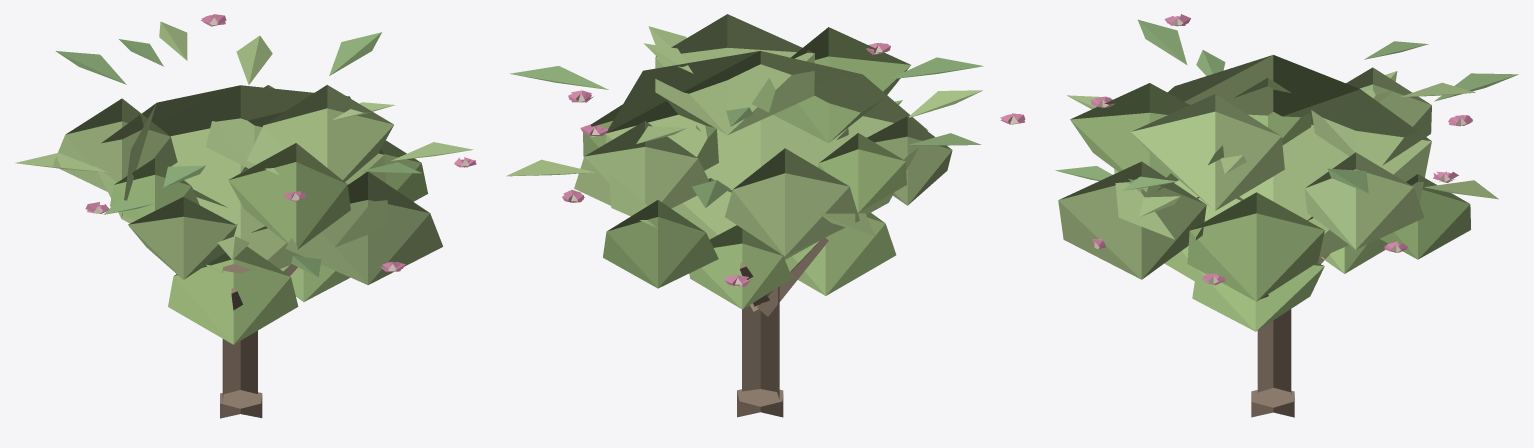
The model's file is shu.mangguo@flowering__bloom.glb.
3 renders of one model, left to right at view 1: azimuth 30°, elevation 25°; view 2: azimuth 150°, elevation 25°; view 3: azimuth 270°, elevation 25°, orthographic. The views are drawn at different scales.
Parts seen in each view (by area): view 1: shu.mangguo@flowering__bloom; view 2: shu.mangguo@flowering__bloom; view 3: shu.mangguo@flowering__bloom.
Part boxes in pixels (x1,y1,x2,y2): shu.mangguo@flowering__bloom: (15, 14, 476, 418); shu.mangguo@flowering__bloom: (506, 14, 1025, 417); shu.mangguo@flowering__bloom: (1055, 14, 1518, 417).
Size of the model in its own units: 14.05 by 11.4 by 13.39.
